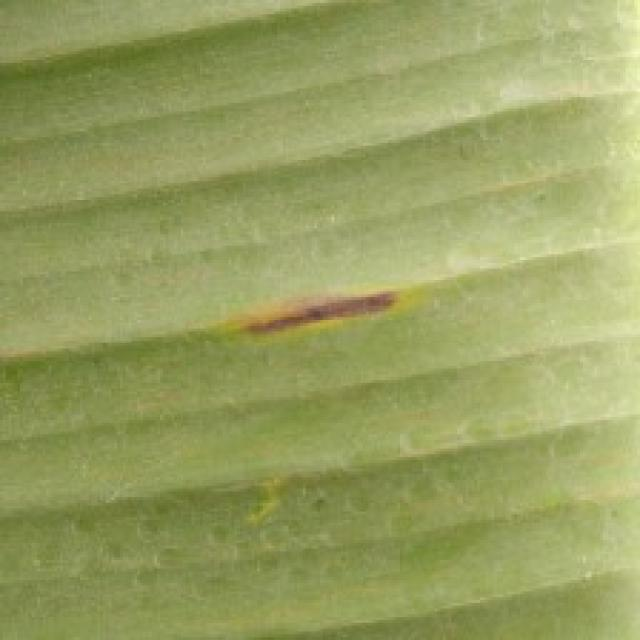Early_leaf_spot: (219, 261, 420, 354)
